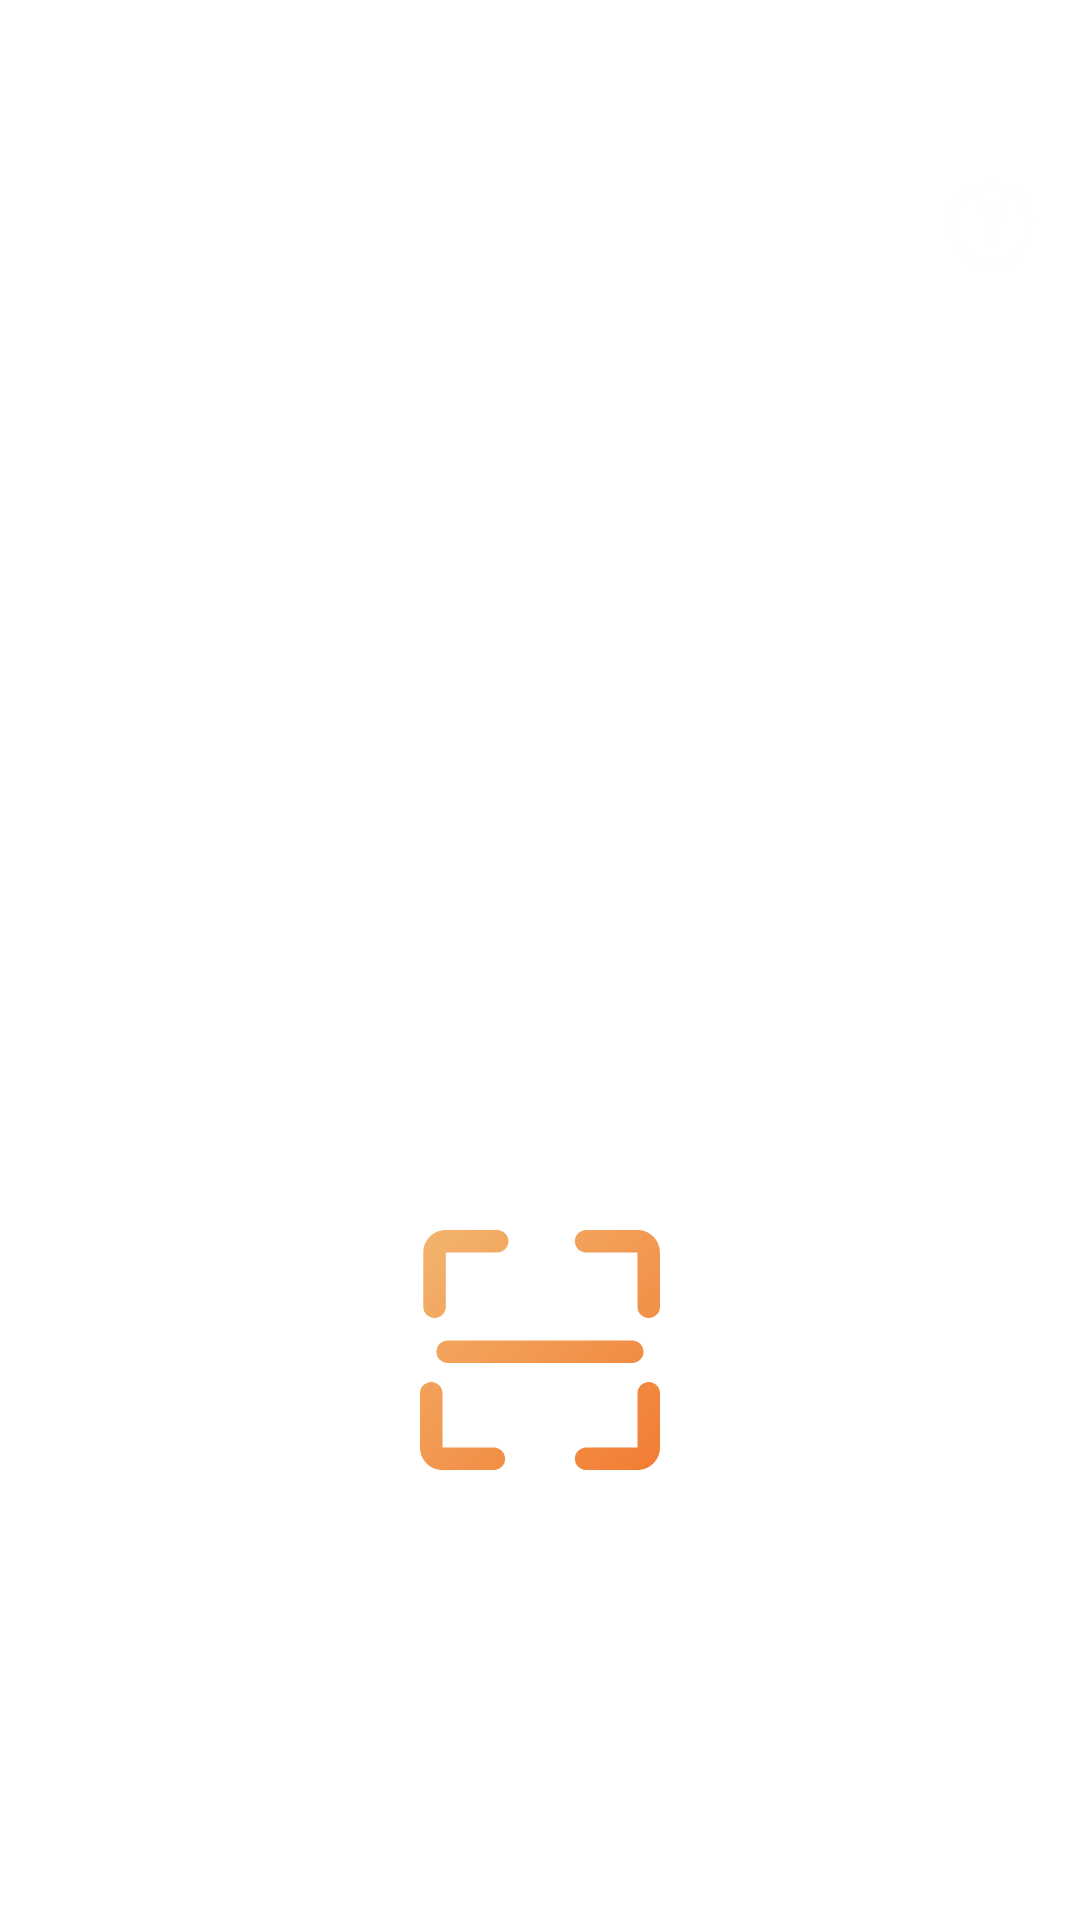

Icons on this 1080×1920 Android screen, each with its box as (x1, y1, x2, y2):
Scan: (420, 1230, 660, 1470)
